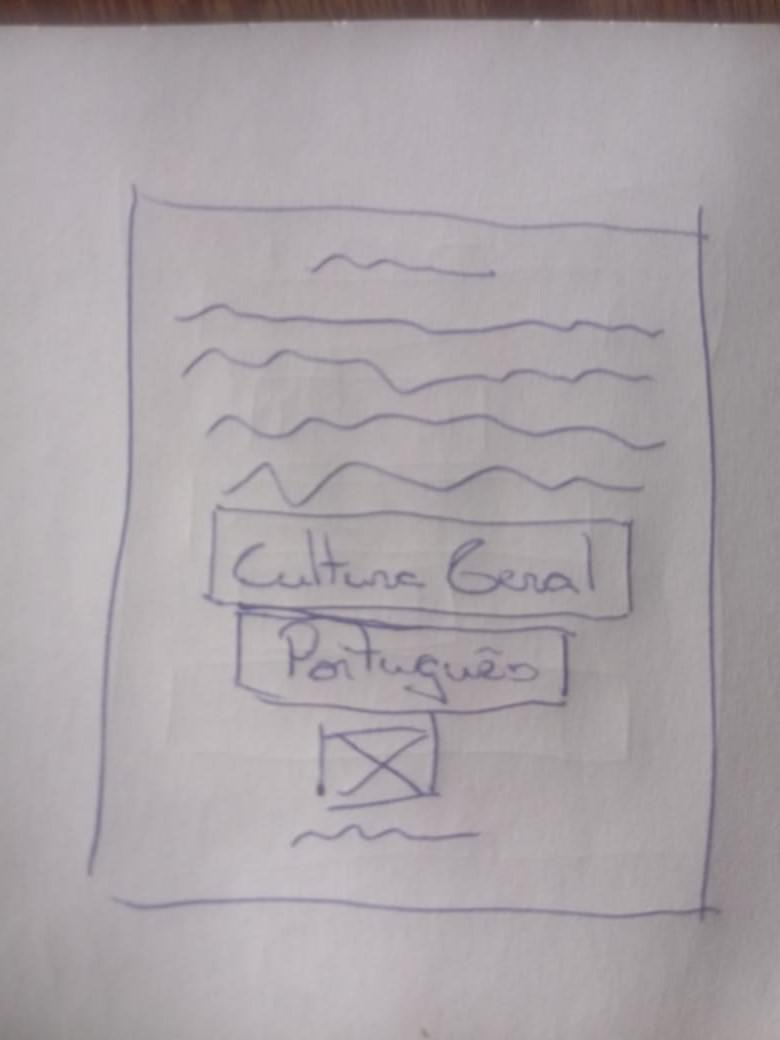Button: (212, 507, 633, 620), (234, 611, 569, 715)
Image: (318, 715, 439, 812)
Label: (173, 298, 668, 508), (309, 252, 495, 281), (288, 824, 483, 847)
Screen: (88, 184, 715, 922)
